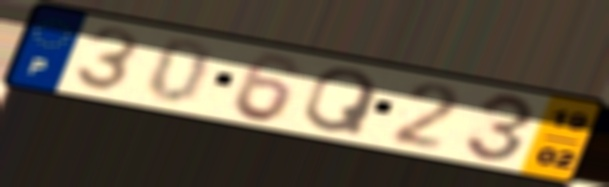0: (145, 38, 218, 108)
2: (389, 81, 464, 154)
3: (462, 93, 537, 165), (72, 25, 144, 95)
6: (228, 50, 308, 125)
Q: (300, 67, 383, 138)
